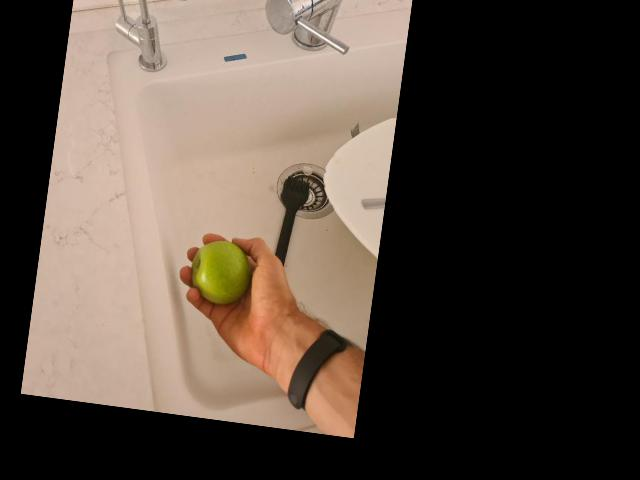apple: (186, 237, 253, 308)
